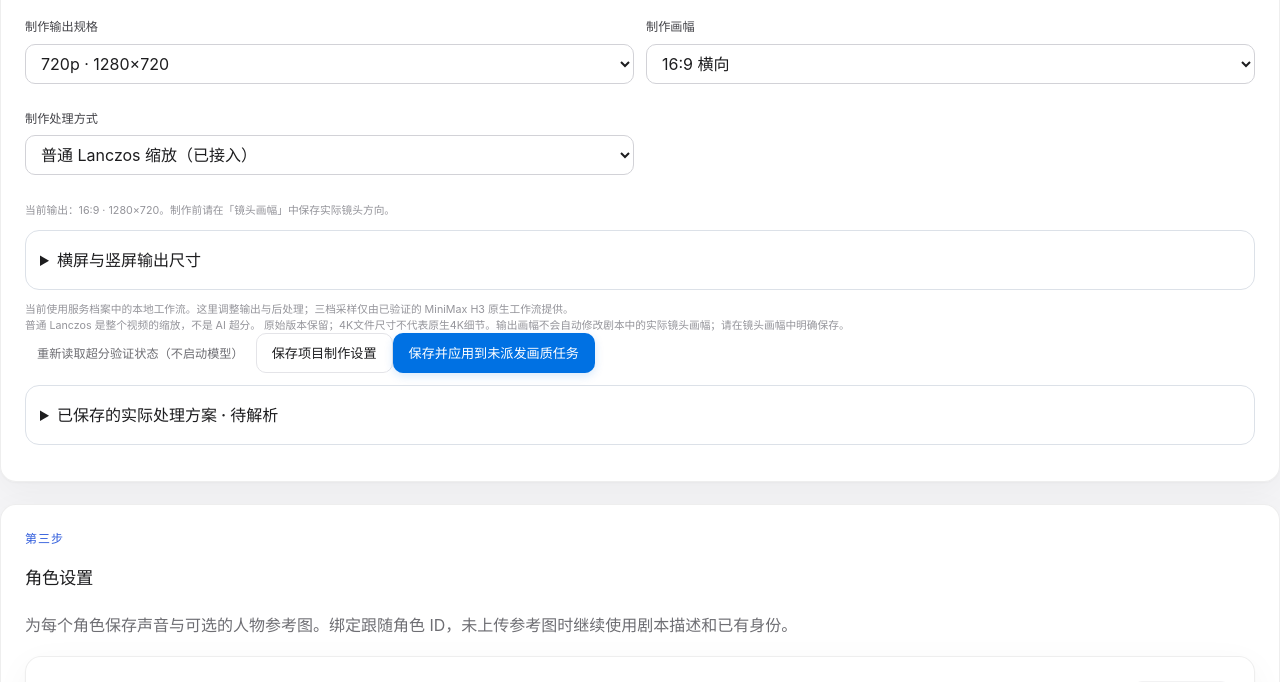
Test: Studio UI contracts › saves quality before explicitly applying its returned revision to undispatched work
(page scrolled)
Click the button "保存并应用到未派发画质任务" at (494, 353), box top-left (392, 333), bottom-right (595, 373)
(page scrolled)
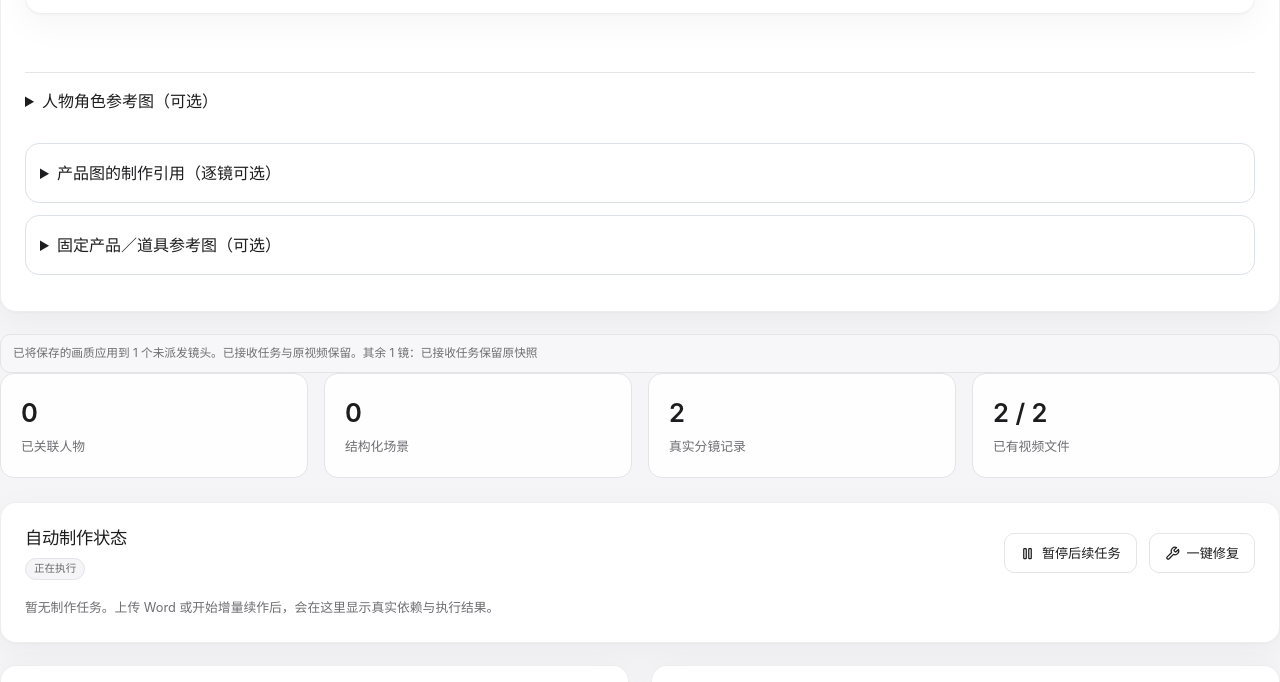
expect the text "已将保存的画质应用到 1 个未派发镜头。已接收任务与原视频保留。其余 1 镜：已接收任务保留原快照" is shown: met, box top-left (0, 334), bottom-right (1279, 373)
